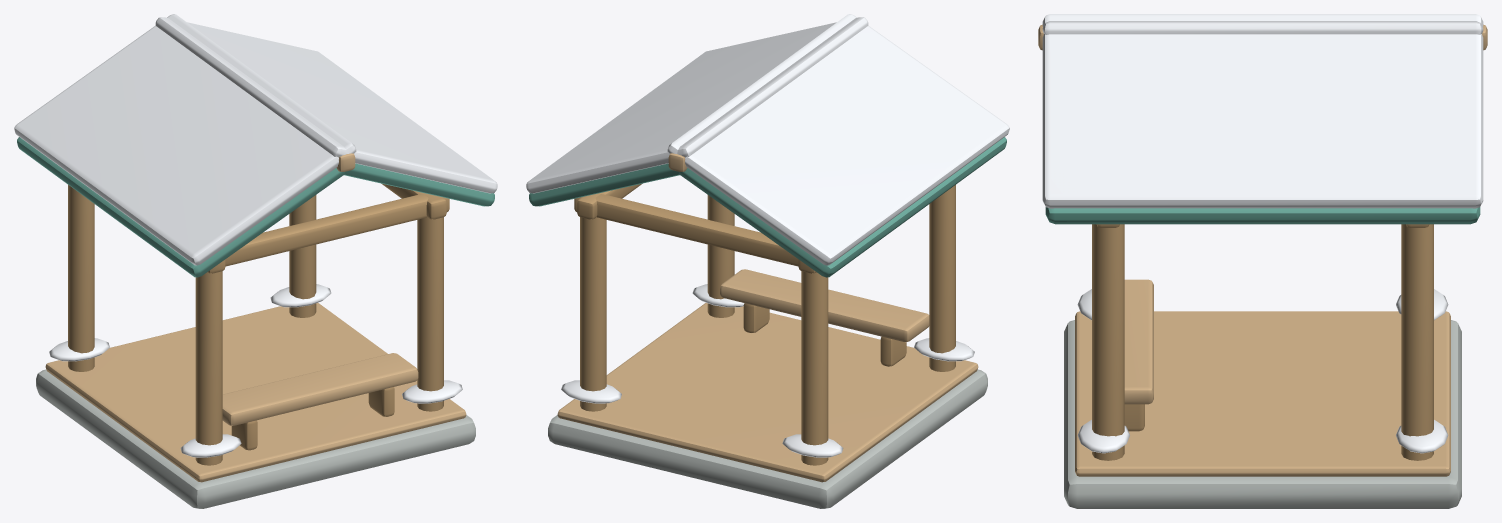
Rendered from gazebo_winter_v1.glb.
3 renders of one model, left to right at view 1: azimuth 30°, elevation 25°; view 2: azimuth 150°, elevation 25°; view 3: azimuth 270°, elevation 25°, orthographic. The views are drawn at different scales.
Parts seen in each view (by area): view 1: Season_RoofSnow, Base_Floor, Base_Column (×4), Base_Foundation, Base_BackBench, Base_Roof (×2), Base_Beam (×2), Season_Snow, Base_BenchLeg (×2); view 2: Season_RoofSnow, Base_Floor, Base_Column (×4), Base_Foundation, Base_Roof (×2), Base_BackBench, Base_Beam (×2), Season_Snow, Base_BenchLeg (×2); view 3: Season_RoofSnow, Base_Floor, Base_Foundation, Base_Column (×2), Base_Roof, Base_BackBench, Season_Snow, Base_BenchLeg.
Part boxes in pixels (box(x1,y1,x2,y2)): Season_RoofSnow: box(14, 14, 497, 265); Base_Floor: box(45, 303, 466, 482); Base_Column (×4): box(68, 185, 443, 465); Base_Foundation: box(36, 369, 475, 508); Base_BackBench: box(222, 353, 418, 425); Base_Roof (×2): box(17, 137, 494, 277); Base_Beam (×2): box(225, 183, 449, 266); Season_Snow: box(49, 284, 462, 457); Base_BenchLeg (×2): box(231, 387, 394, 450); Season_RoofSnow: box(526, 14, 1009, 265); Base_Floor: box(557, 303, 978, 482); Base_Column (×4): box(580, 185, 955, 465); Base_Foundation: box(548, 369, 987, 508); Base_Roof (×2): box(529, 137, 1006, 277); Base_BackBench: box(720, 269, 929, 342); Base_Beam (×2): box(574, 183, 798, 266); Season_Snow: box(561, 284, 974, 457); Base_BenchLeg (×2): box(743, 303, 906, 366); Season_RoofSnow: box(1042, 14, 1483, 208); Base_Floor: box(1075, 311, 1450, 476); Base_Foundation: box(1064, 320, 1461, 508); Base_Column (×2): box(1092, 224, 1433, 460); Base_Roof: box(1045, 207, 1480, 224); Base_BackBench: box(1124, 279, 1153, 404); Season_Snow: box(1077, 289, 1448, 453); Base_BenchLeg: box(1124, 404, 1144, 431).
Bounding box in the file's own units: 2.9 × 3.08 × 3.05.
